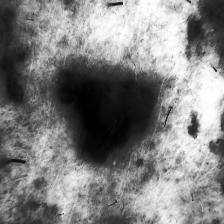Benign Marking or Mole: (58, 62, 166, 170)
